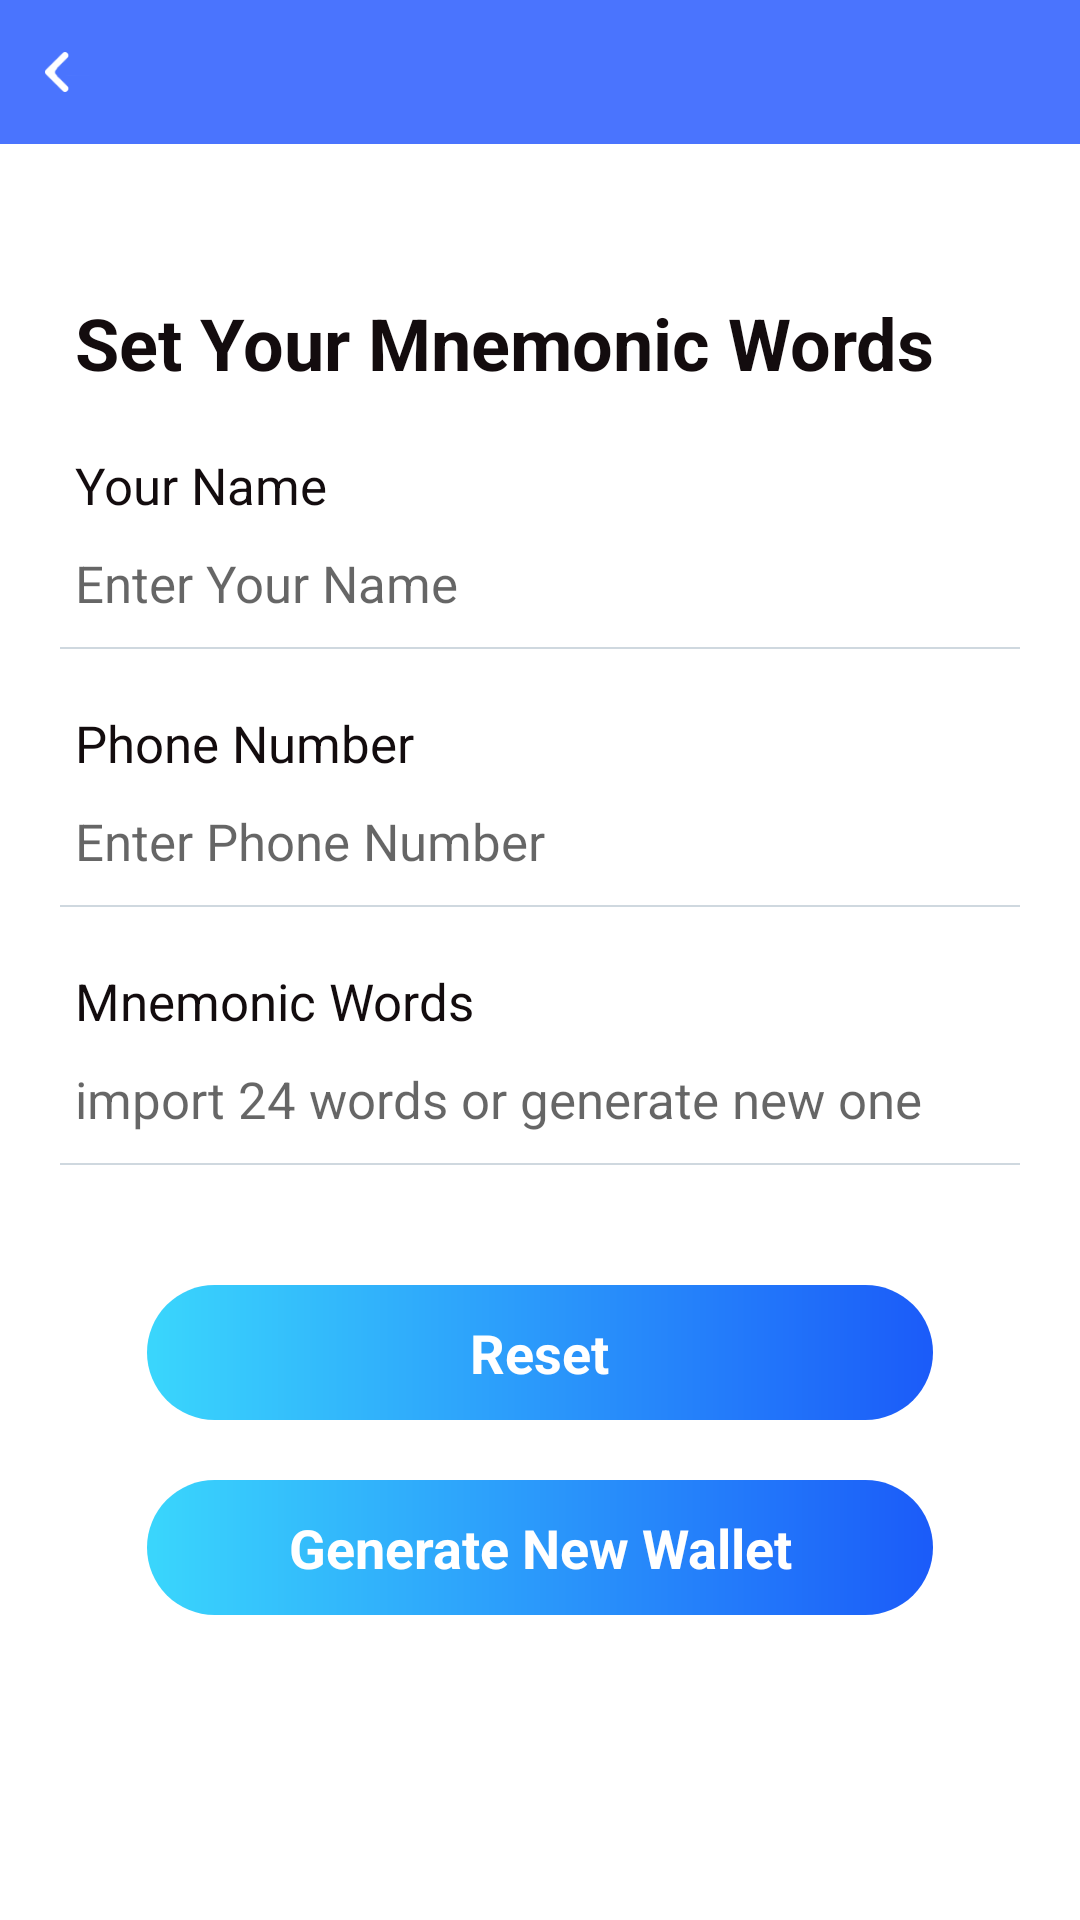

Where icons sit on this 1080 × 1920 app screen, as bbox(x1, y1, x2, y2):
back: bbox(45, 52, 69, 92)
